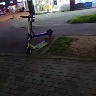beam: (23, 9, 56, 38)
gcooter: (18, 15, 55, 58)
